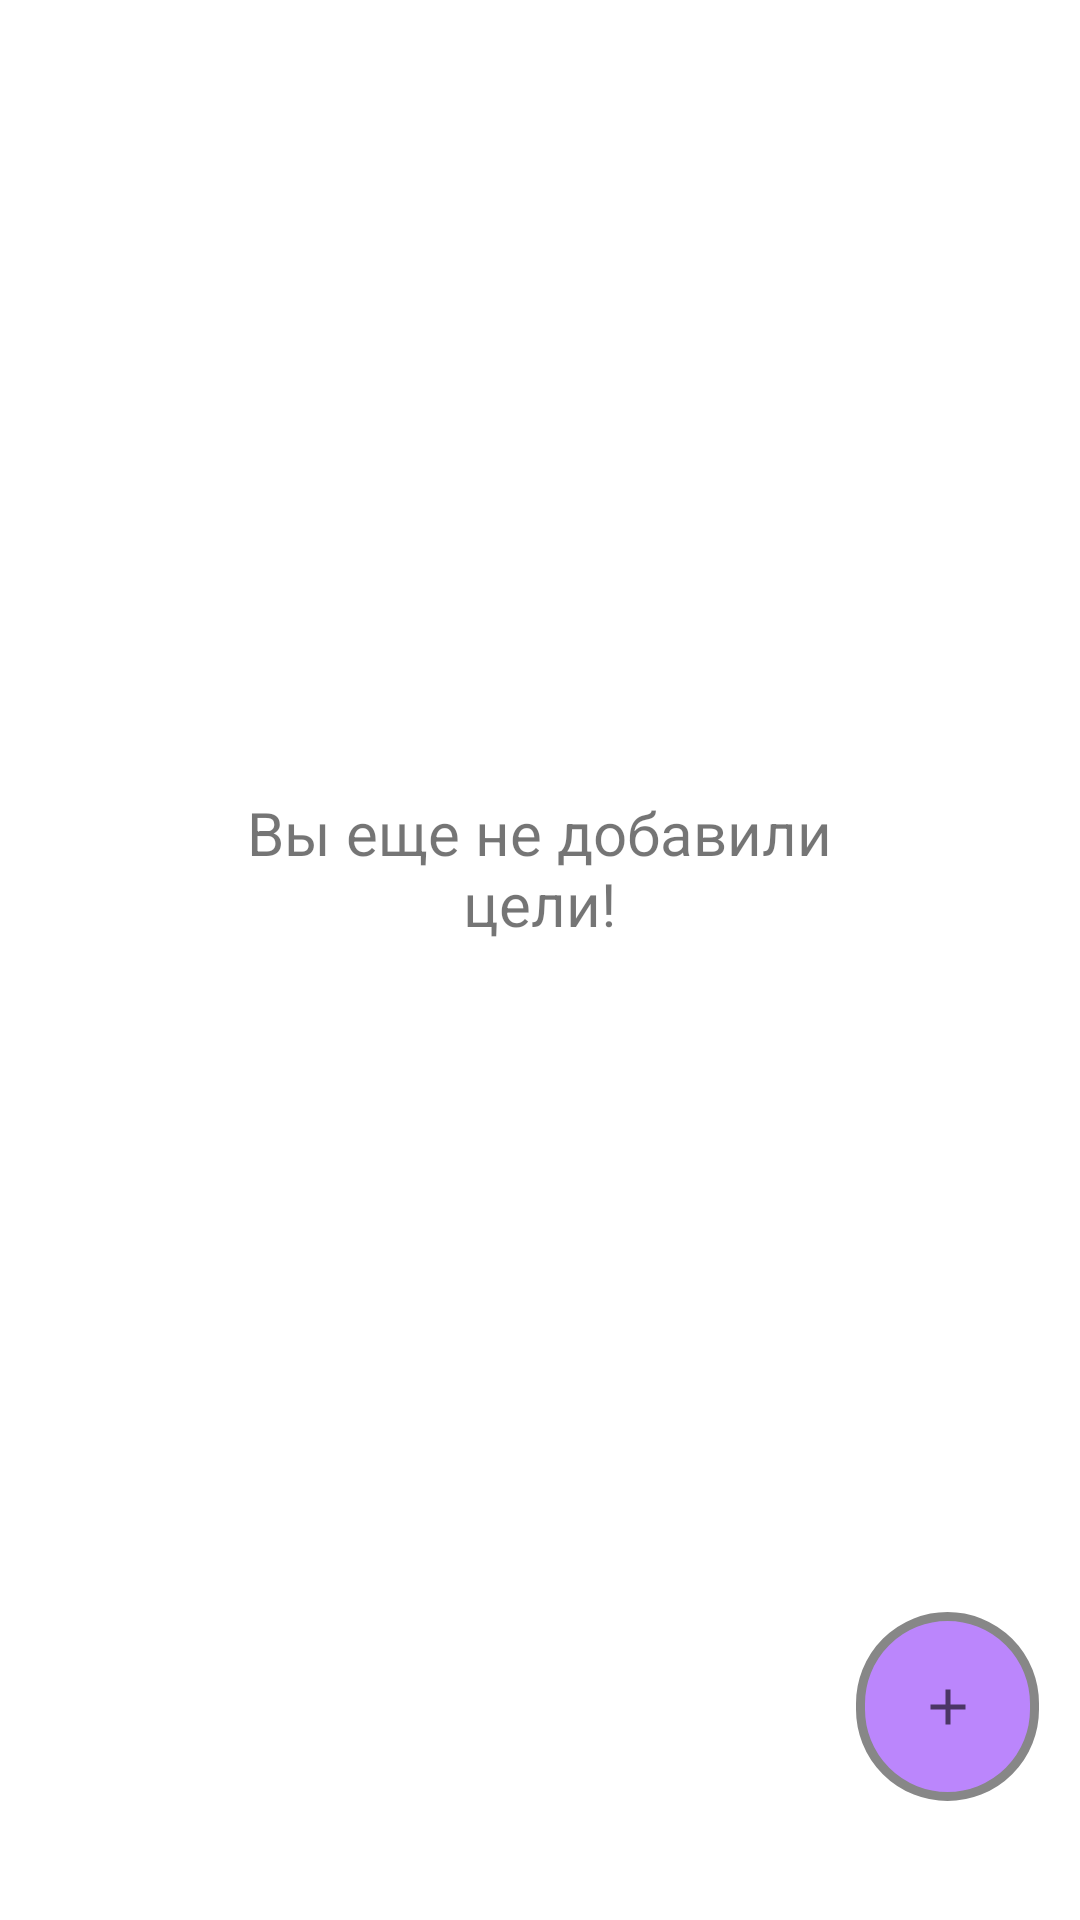

Point at icon controls on the screen. Image size 1080×1920, points as (x=x, y=y).
add: (x=947, y=1706)
